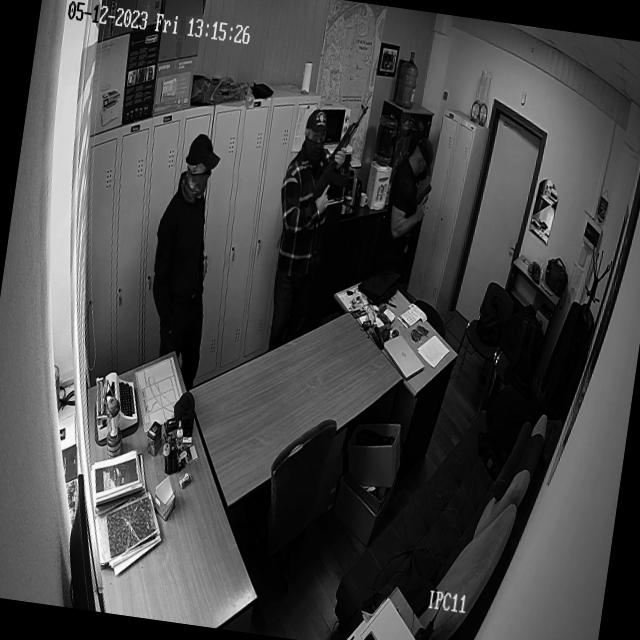gun: (309, 102, 370, 232), (414, 183, 433, 230)
person: (143, 130, 231, 376)
person with a gun: (264, 81, 374, 344), (379, 138, 438, 280)
